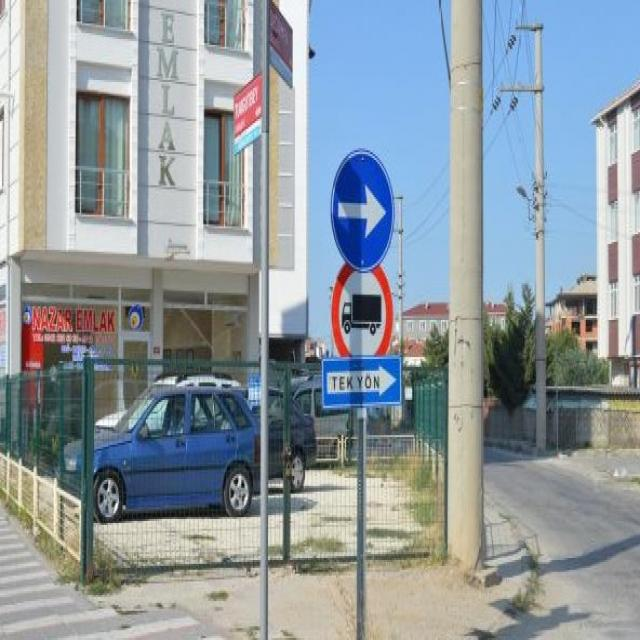Turn Right: (329, 153, 396, 270)
